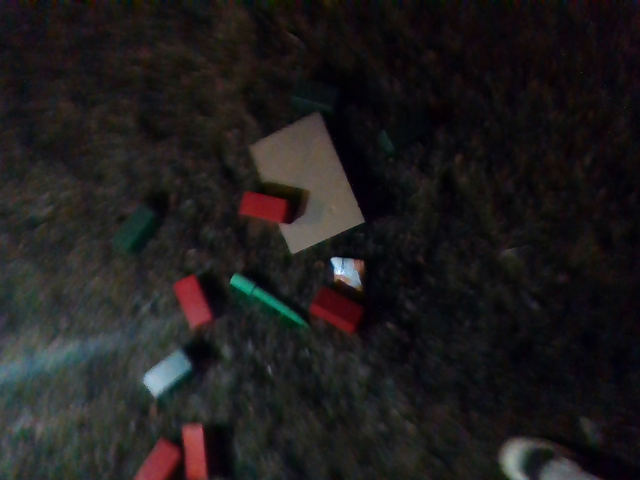Probe: (223, 265, 317, 334)
